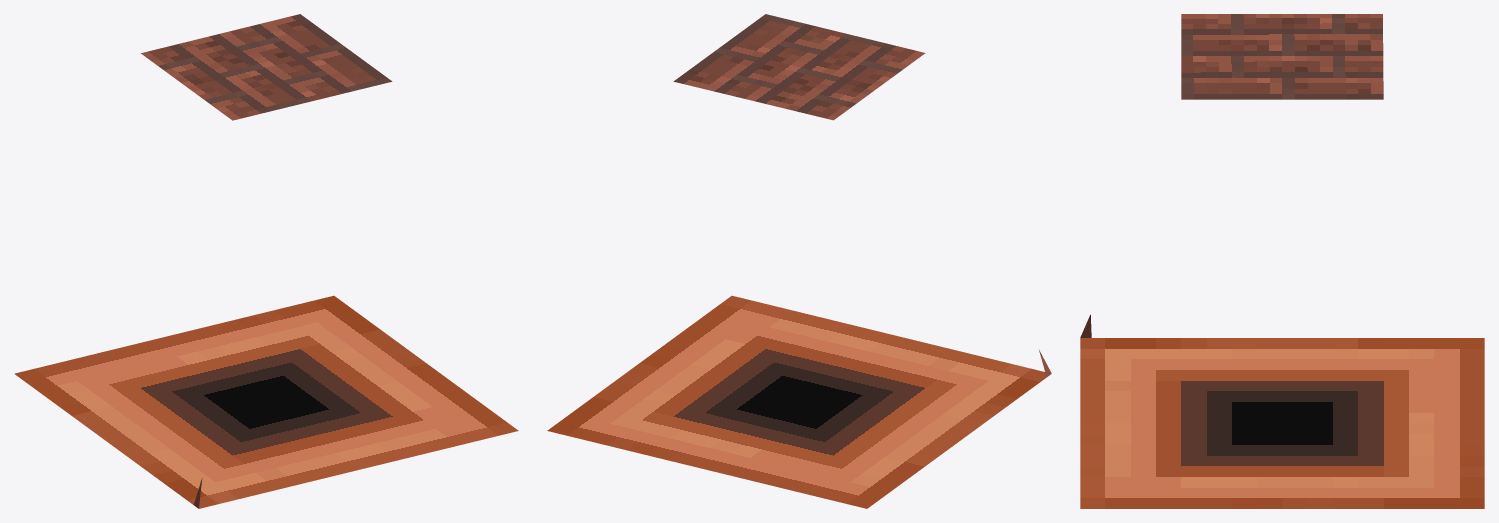
The model's file is difurnace_extension.obj.
The picture shows the model from 3 angles, left to right: view 1: azimuth 30°, elevation 25°; view 2: azimuth 150°, elevation 25°; view 3: azimuth 270°, elevation 25°; orthographic projection. The views are drawn at different scales.
Visible parts, largest first — view 1: Bottom, Top; view 2: Bottom, Top; view 3: Bottom, Top.
Part boxes in pixels (x1=…): Bottom: x1=14, y1=295, x2=518, y2=508; Top: x1=141, y1=14, x2=392, y2=120; Bottom: x1=547, y1=295, x2=1046, y2=508; Top: x1=673, y1=14, x2=925, y2=120; Bottom: x1=1080, y1=338, x2=1484, y2=508; Top: x1=1181, y1=14, x2=1383, y2=99.
Bounding box in the file's own units: 1 × 1 × 1.
